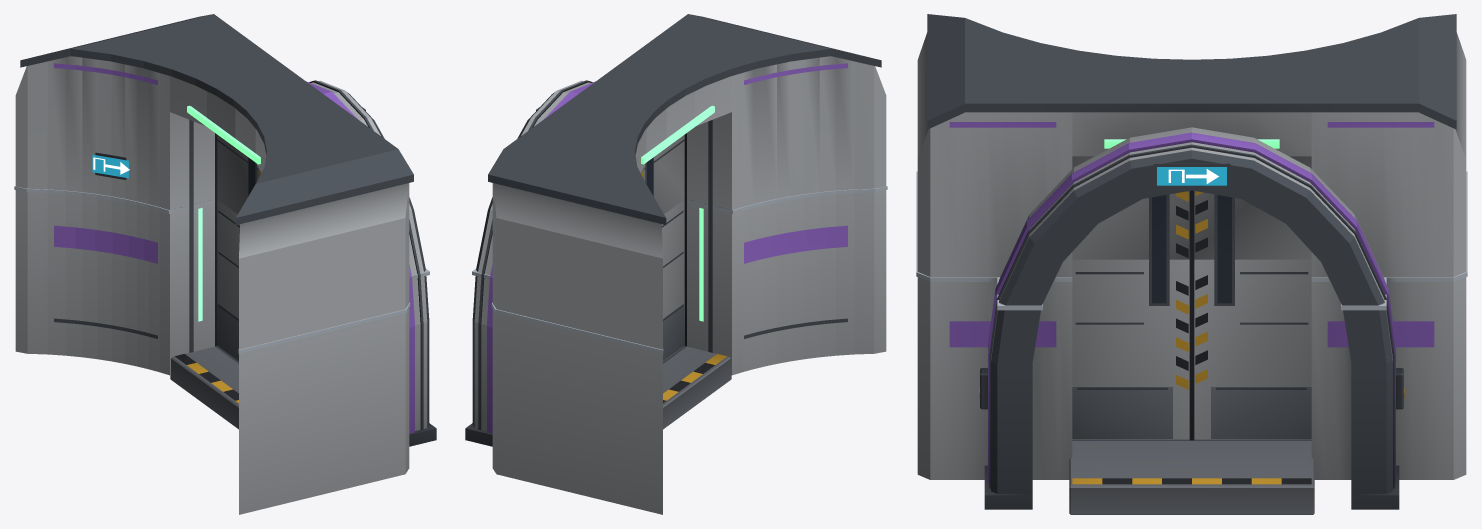
The model's file is doorway_flat_r250.glb.
3 renders of one model, left to right at view 1: azimuth 30°, elevation 25°; view 2: azimuth 150°, elevation 25°; view 3: azimuth 270°, elevation 25°, orthographic. The views are drawn at different scales.
Visible parts, largest first — view 1: FrameTop, Frame, DoorR, DoorRTop, FrameCap, Sign, Status, Lights; view 2: FrameTop, Frame, DoorL, DoorLTop, FrameCap, Status, Lights; view 3: FrameTop, Frame, DoorL, DoorR, DoorLTop, DoorRTop, FrameCap, Sign.
Boxes of the visible parts, x1,y1,x2,y2 form: FrameTop: (15,14,425,349); Frame: (15,190,436,514); DoorR: (217,199,239,361); DoorRTop: (217,135,261,213); FrameCap: (14,186,429,353); Sign: (92,107,365,179); Status: (187,105,260,164); Lights: (198,208,202,321); FrameTop: (476,14,886,349); Frame: (465,190,886,514); DoorL: (662,199,684,361); DoorLTop: (640,135,684,213); FrameCap: (472,186,887,353); Status: (641,105,714,164); Lights: (699,208,703,321); FrameTop: (917,14,1466,305); Frame: (917,277,1466,514); DoorL: (1072,259,1191,440); DoorR: (1192,259,1311,440); DoorLTop: (1072,156,1191,259); DoorRTop: (1192,156,1311,259); FrameCap: (916,171,1467,310); Sign: (1153,163,1230,188).
Size of the model in its own units: 2.01 by 2.67 by 3.46.
